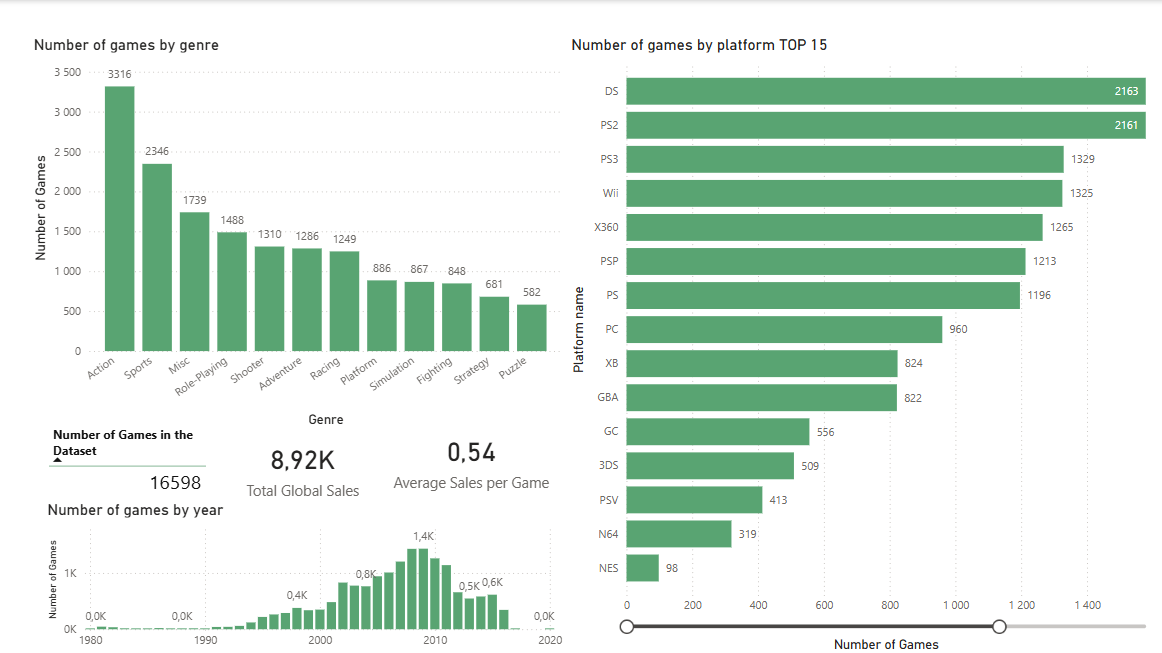

This screenshot's page, from the dashboard's own definition file:
{"tool":"powerbi","page":{"name":"Dataset overview","canvas":[1280,720],"ordinal":0},"visuals":[{"type":"clusteredColumnChart","title":"Number of games by genre","fields":{"Category":["vgsales.Genre"],"Y":["CountNonNull(vgsales.Name)"]},"box":[34.3,38.4,590.1,435],"z":0},{"type":"clusteredBarChart","title":" Number of games by platform TOP 15","fields":{"Category":["vgsales.Platform"],"Y":["CountNonNull(vgsales.Name)"]},"box":[624.4,38.4,655.8,681.4],"z":1000},{"type":"tableEx","fields":{"Values":["vgsales.Name"]},"box":[48.8,461.6,194.2,87.2],"z":2000},{"type":"clusteredColumnChart","title":" Number of games by year","fields":{"Category":["vgsales.Year"],"Y":["CountNonNull(vgsales.Name)"]},"box":[48.8,548.8,575.6,172.1],"z":3000},{"type":"card","fields":{"Values":["Sum(vgsales.Global_Sales)"]},"box":[243,473.3,183.7,81.4],"z":4000},{"type":"card","fields":{"Values":["vgsales.Average Sales per Game"]},"box":[426.7,454.7,186,101.2],"z":5000}]}

Visuals, with their boxes in screenshot pixels (x1, y1, x2, y2), scaled from the page's 1280x720 canvas onto the 1162x653 screenshot:
"Number of games by genre" clusteredColumnChart: 31, 35, 567, 429
" Number of games by platform TOP 15" clusteredBarChart: 567, 35, 1161, 652
tableEx - vgsales.Name: 44, 419, 221, 498
" Number of games by year" clusteredColumnChart: 44, 498, 567, 652
card - Sum(vgsales.Global_Sales): 221, 429, 387, 503
card - vgsales.Average Sales per Game: 387, 412, 556, 504
